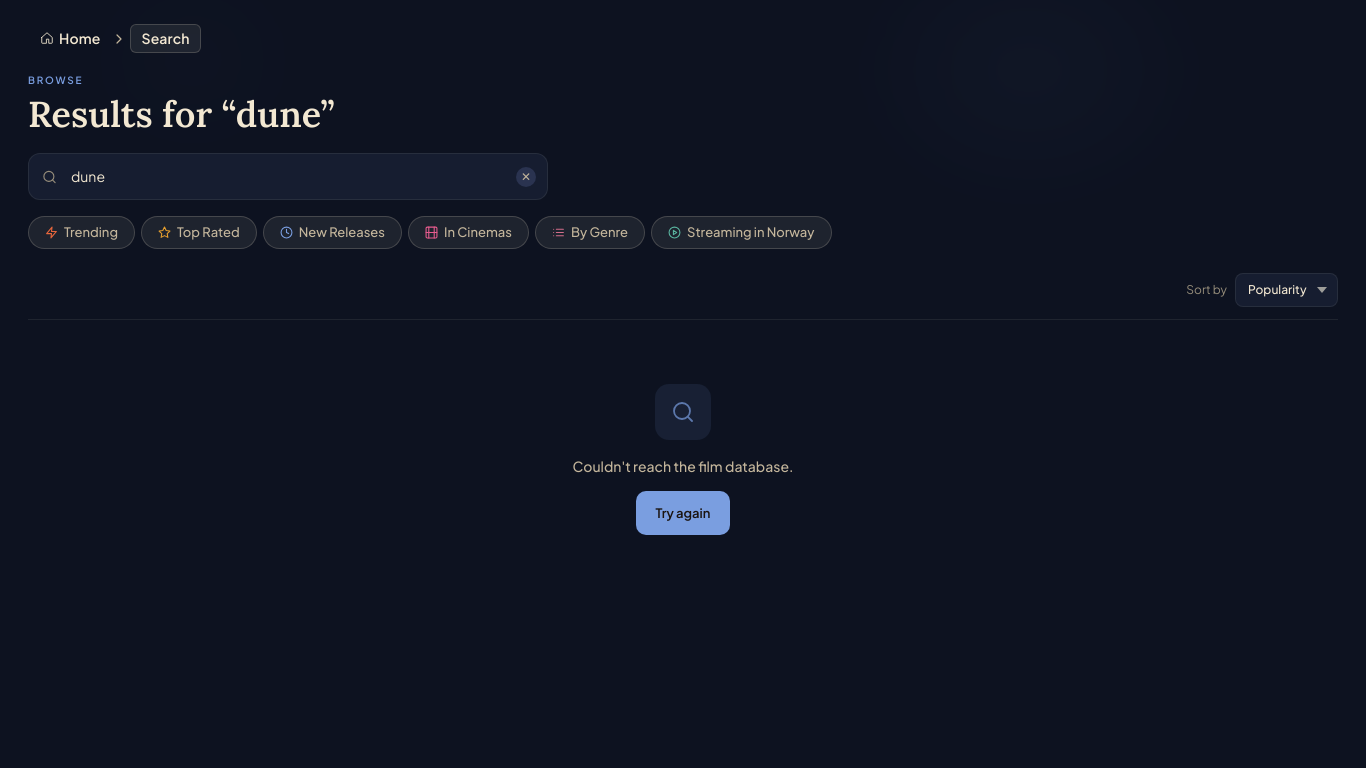
Scenario: /browse search › shows a failed search as an error; Try again runs it again
Check: the message shows "Couldn't reach the film database.", box [572,457,793,475]
Click the button "Try again" at (683, 513), box [636,491,730,535]
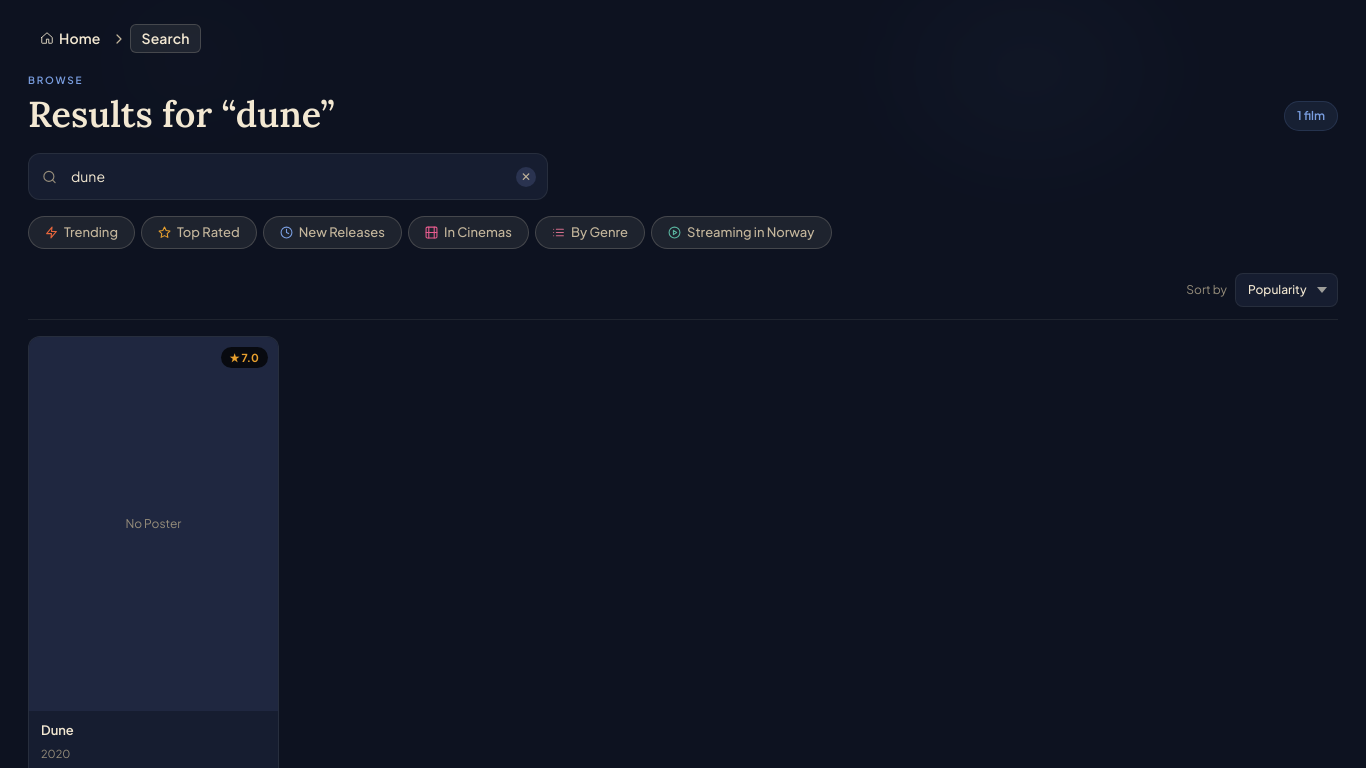
Check: the heading "Dune" is shown, box [41,722,74,738]
